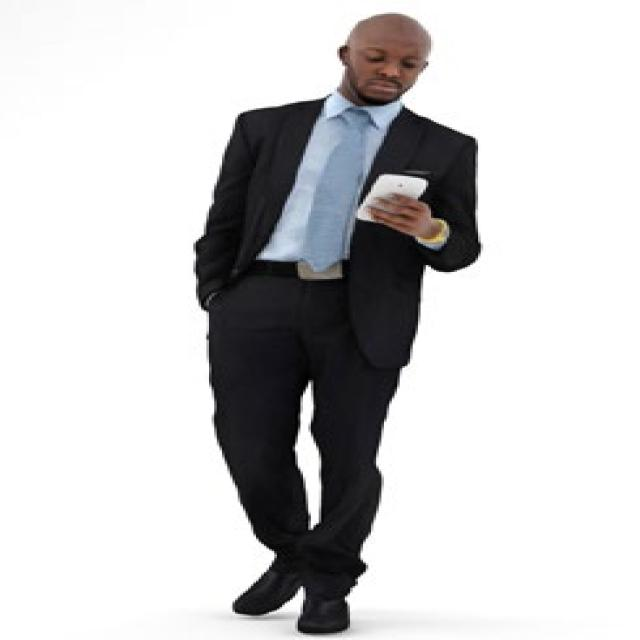standing: (193, 11, 491, 638)
